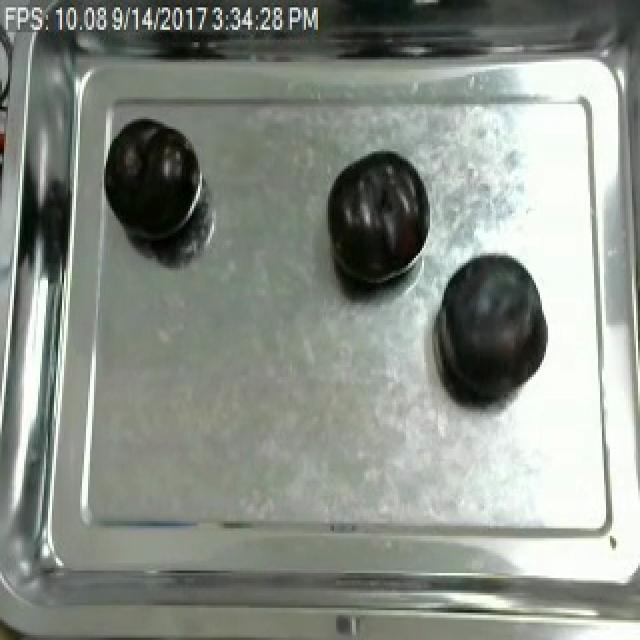Fruit: (432, 248, 552, 409), (322, 147, 430, 296), (102, 119, 204, 248)
